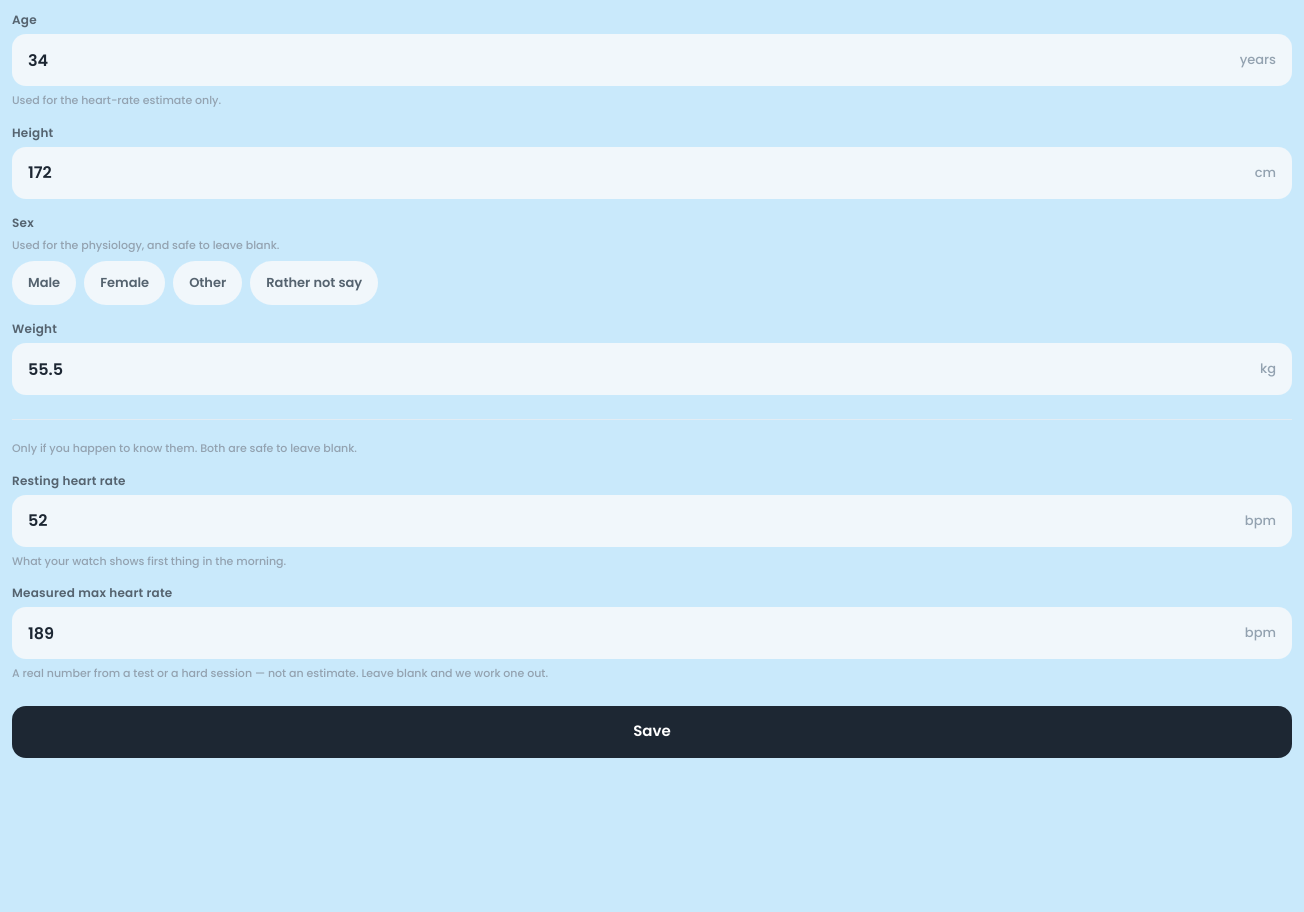
ProfileForm — the submit › field errors land under their field with the input invalid; the summary lands as an alert
The width and height of the screenshot is (1304, 912).
Click the button "Save". click: (652, 732)
box: [12,706,1292,758]
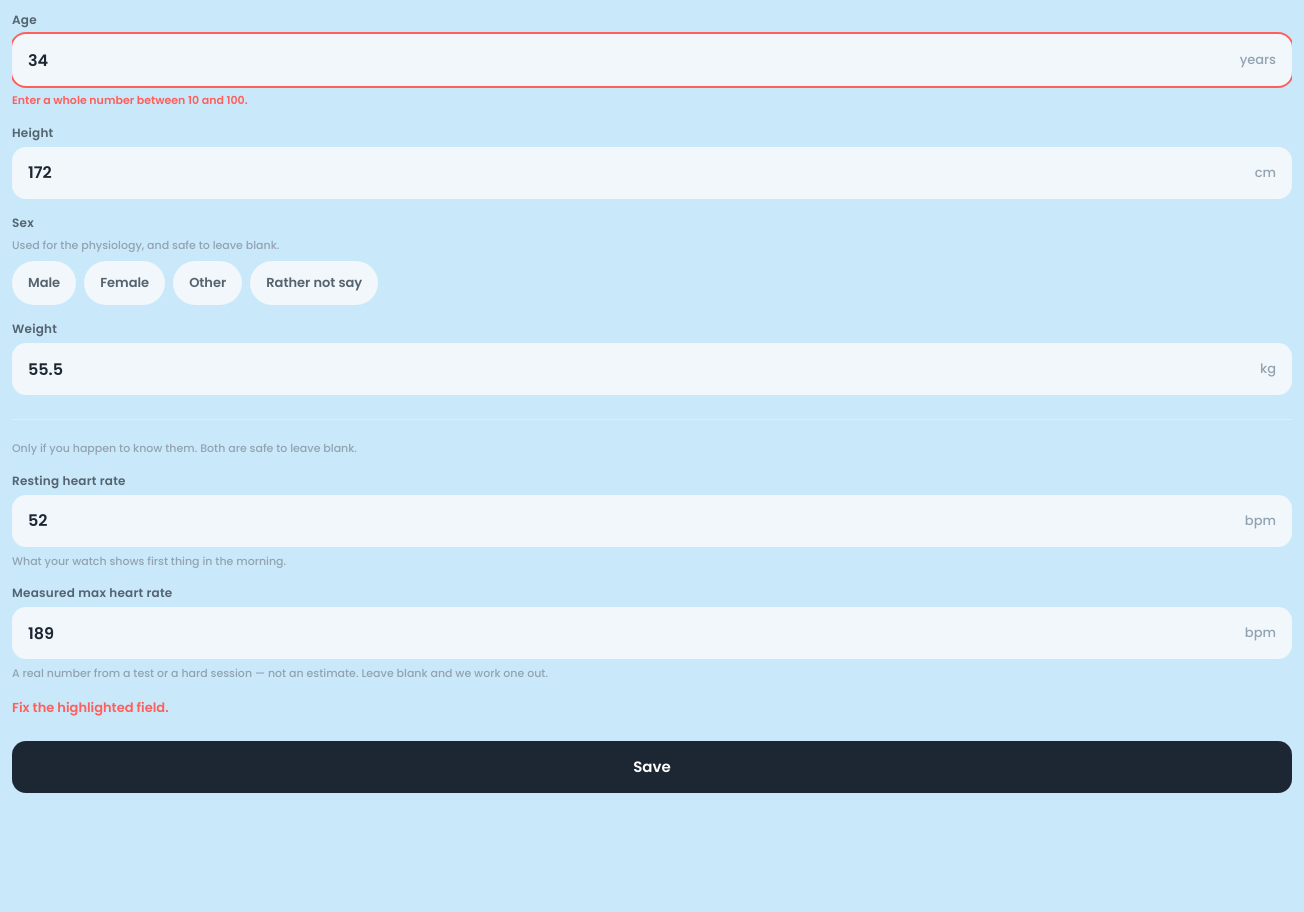
Expected: the message reads "Fix the highlighted field.", [12,698,168,716]
Expected: the text "Enter a whole number between 10 and 100." is shown, [12,92,248,108]
Expected: the text "Used for the heart-rate estimate only." is gone
